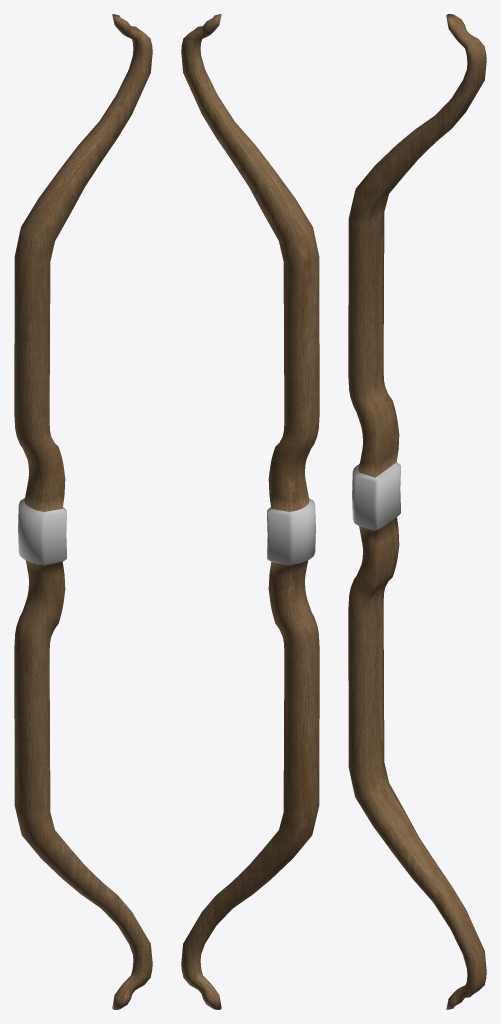
The model's file is Bow_V03.fbx.
3 renders of one model, left to right at view 1: azimuth 30°, elevation 25°; view 2: azimuth 150°, elevation 25°; view 3: azimuth 330°, elevation 25°, orthographic.
Visible parts, largest first — view 1: Bow_V03_E; view 2: Bow_V03_E; view 3: Bow_V03_E.
Boxes of the visible parts, x1,y1,x2,y2 form: Bow_V03_E: [14, 14, 152, 1009]; Bow_V03_E: [181, 14, 319, 1009]; Bow_V03_E: [348, 14, 486, 1009].
Size of the model in its own units: 15.46 by 113 by 5.04.
